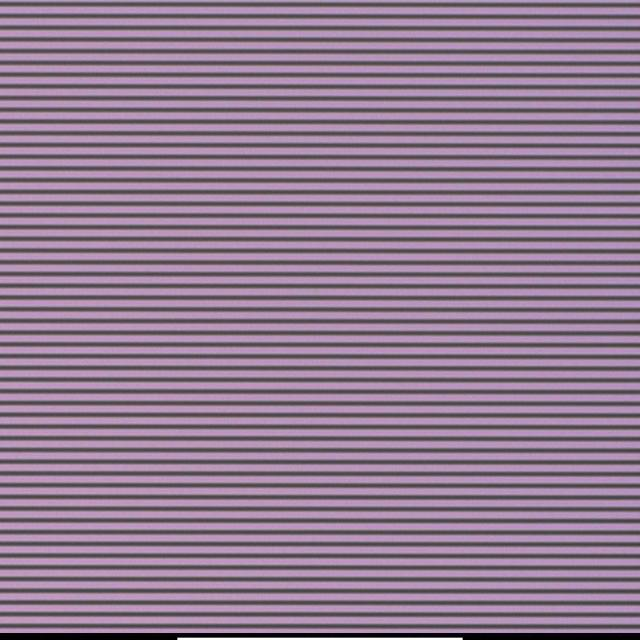nonvisual: (294, 294, 300, 304)
